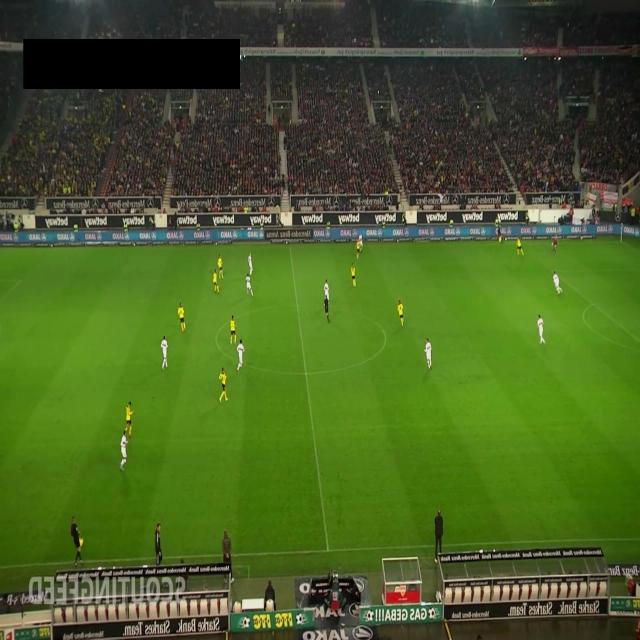player: (218, 366, 228, 403), (125, 400, 134, 438), (120, 429, 128, 471), (236, 338, 245, 372), (160, 335, 168, 370), (177, 302, 186, 332), (424, 338, 432, 370), (552, 269, 562, 294), (537, 314, 545, 344), (230, 314, 237, 346), (216, 253, 224, 279), (323, 278, 330, 304), (212, 268, 219, 292), (398, 298, 404, 326), (246, 274, 253, 297), (516, 237, 524, 256), (247, 252, 253, 276), (351, 262, 356, 288), (552, 233, 558, 253), (355, 239, 360, 260), (358, 233, 362, 253)
referee: (70, 515, 84, 565), (323, 294, 330, 322), (497, 223, 502, 243)
